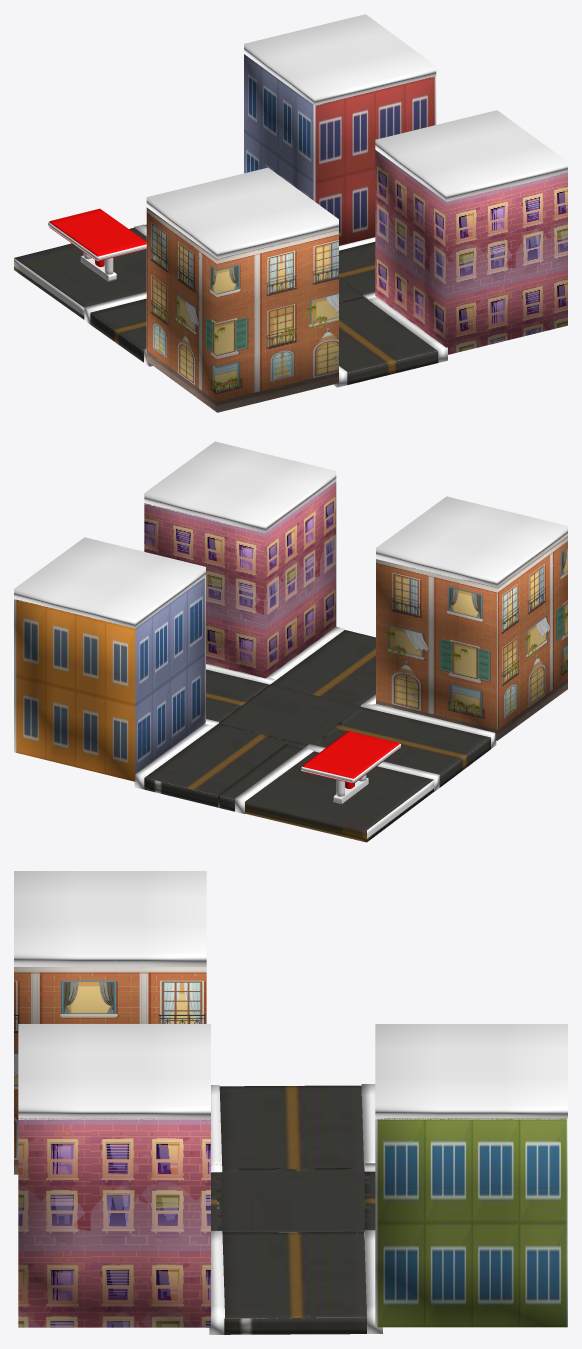
3 renders of one model, top to bottom at view 1: azimuth 30°, elevation 25°; view 2: azimuth 150°, elevation 25°; view 3: azimuth 270°, elevation 25°, orthographic. The views are drawn at different scales.
Parts seen in each view (by area): view 1: Bui3, Bui2, Bui1, Road_3, Gas_station, Roof(red), Road_1, Road4, Cross_road_5, Cross_road; view 2: Bui1, Bui3, Bui2, Gas_station, Road2, Road_1, Center_road, Road_3, Roof(red), Road4, Cross_road_3, Cross_road1 (+3 smaller); view 3: Bui1, Bui2, Bui3, Road4, Road_1, Center_road, Cross_road_3, Cross_road, Road2.
Boxes of the visible parts, box(x1,y1,x2,y2) form: Bui3: box(146, 167, 338, 412); Bui2: box(375, 110, 567, 354); Bui1: box(244, 14, 436, 245); Road_3: box(339, 296, 438, 384); Gas_station: box(14, 224, 146, 319); Roof(red): box(49, 208, 146, 261); Road_1: box(90, 298, 146, 362); Road4: box(339, 242, 375, 295); Cross_road_5: box(363, 295, 447, 362); Cross_road: box(84, 237, 375, 324); Bui1: box(14, 537, 205, 781); Bui3: box(376, 496, 567, 740); Bui2: box(144, 441, 336, 678); Gas_station: box(218, 744, 433, 842); Road2: box(144, 724, 307, 811); Road_1: box(316, 707, 490, 787); Center_road: box(217, 683, 363, 745); Road_3: box(271, 630, 375, 705); Roof(red): box(302, 731, 399, 783); Road4: box(206, 669, 269, 721); Cross_road_3: box(206, 664, 496, 748); Cross_road1: box(235, 744, 313, 813); Bui1: box(375, 1024, 567, 1327); Bui2: box(18, 1024, 210, 1327); Bui3: box(14, 871, 206, 1174); Road4: box(222, 1231, 366, 1334); Road_1: box(219, 1085, 363, 1171); Center_road: box(216, 1168, 371, 1238); Cross_road_3: box(209, 1085, 224, 1334); Cross_road: box(361, 1084, 382, 1333); Road2: box(364, 1171, 375, 1229).
Size of the model in its own units: 7 by 3.21 by 6.99.
27 materials, 11 textured.
